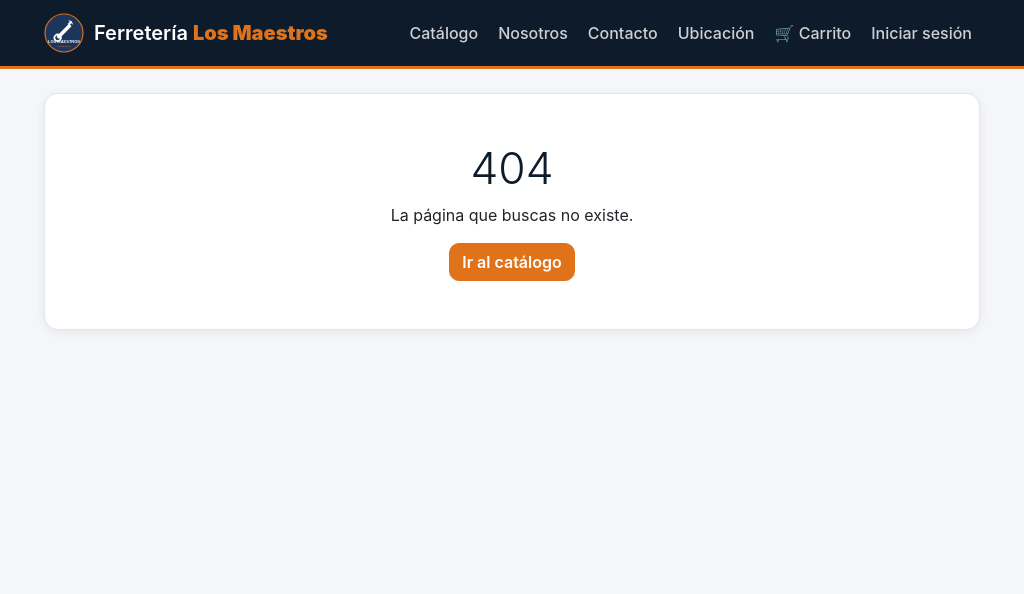
Scenario: Navegación, vistas informativas y diseño responsivo › desde la 404 el botón vuelve al catálogo
Click the link "Ir al catálogo". click: x=512, y=262
box: [449,243,575,281]
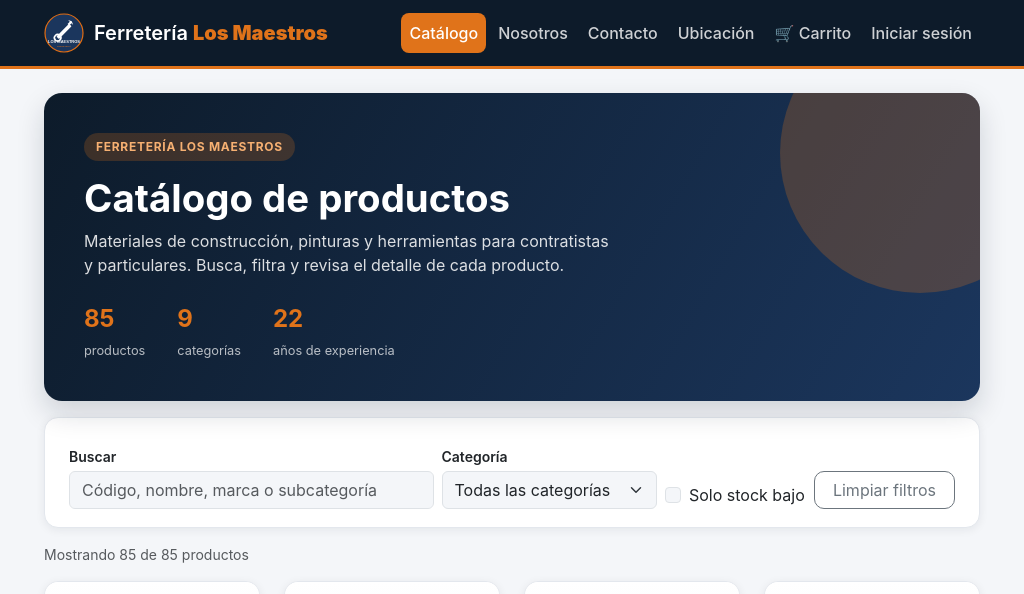
Expected: the heading "Catálogo de productos" is shown, [84,175,510,221]
